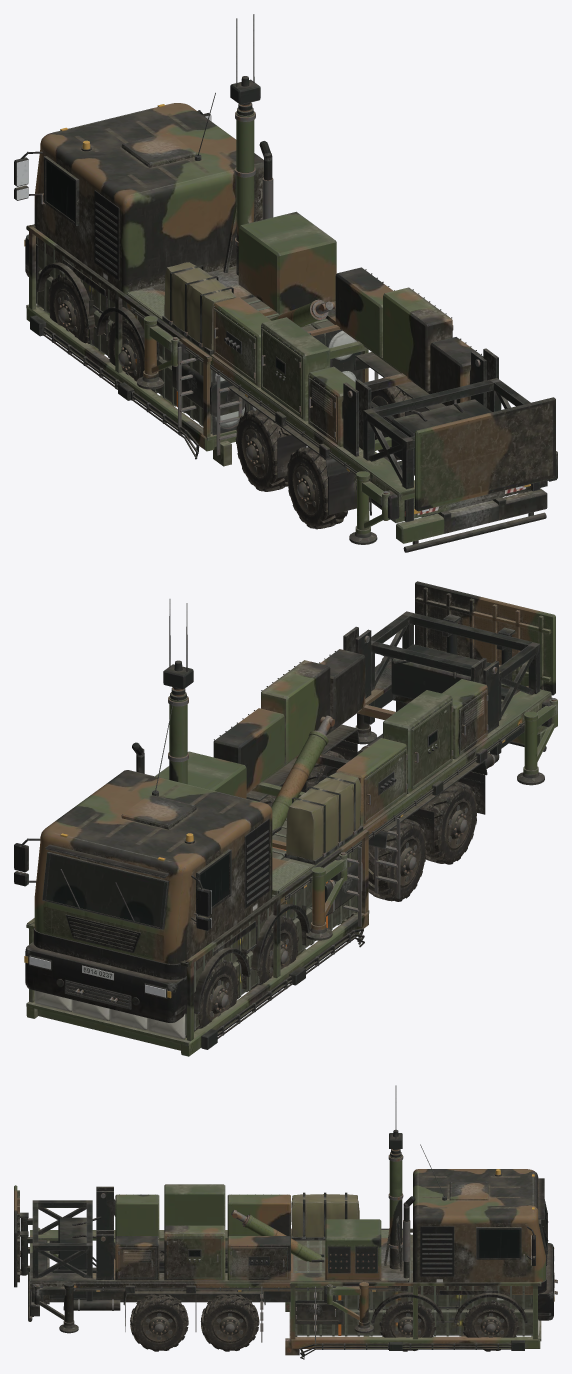
The model's file is sampt.glb.
3 views of the same model, one above another, from view 1: azimuth 30°, elevation 25°; view 2: azimuth 150°, elevation 25°; view 3: azimuth 270°, elevation 25° (orthographic). The views are drawn at different scales.
Parts seen in each view (by area): view 1: body|SMP_B, body|SMP_A, cradle|SMP_P, heelp|SMP_K, body|SMP_W, body|SMP_F, body|SMP_K, arm1|SMP_K, arm3|SMP_K, mast2|SMP_K; view 2: body|SMP_B, body|SMP_A, cradle|SMP_P, body|SMP_W, body|SMP_F, heelp|SMP_K, cyl0|SMP_K, body|SMP_K, arm1|SMP_K, arm3|SMP_K, mast2|SMP_K, lid0|SMP_P; view 3: body|SMP_B, body|SMP_A, cradle|SMP_P, body|SMP_W, body|SMP_F, body|SMP_K, arm0|SMP_K, arm2|SMP_K, cyl0|SMP_K, heelp|SMP_K.
Boxes of the visible parts, bbox=[...] form: body|SMP_B: bbox=[127, 211, 557, 552]; body|SMP_A: bbox=[14, 92, 263, 340]; cradle|SMP_P: bbox=[26, 224, 368, 466]; heelp|SMP_K: bbox=[415, 397, 555, 511]; body|SMP_W: bbox=[48, 274, 411, 529]; body|SMP_F: bbox=[36, 141, 506, 533]; body|SMP_K: bbox=[223, 111, 255, 275]; arm1|SMP_K: bbox=[143, 315, 179, 379]; arm3|SMP_K: bbox=[355, 471, 390, 534]; mast2|SMP_K: bbox=[230, 14, 260, 105]; body|SMP_B: bbox=[155, 611, 556, 926]; body|SMP_A: bbox=[14, 703, 272, 1022]; cradle|SMP_P: bbox=[26, 806, 369, 1056]; body|SMP_W: bbox=[194, 750, 477, 1035]; body|SMP_F: bbox=[132, 724, 499, 1014]; heelp|SMP_K: bbox=[415, 581, 555, 695]; cyl0|SMP_K: bbox=[271, 731, 328, 830]; body|SMP_K: bbox=[168, 696, 188, 784]; arm1|SMP_K: bbox=[311, 853, 347, 930]; arm3|SMP_K: bbox=[523, 699, 557, 774]; mast2|SMP_K: bbox=[163, 599, 193, 690]; lid0|SMP_P: bbox=[147, 1014, 185, 1039]; body|SMP_B: bbox=[20, 1184, 409, 1342]; body|SMP_A: bbox=[413, 1144, 557, 1324]; cradle|SMP_P: bbox=[285, 1228, 541, 1359]; body|SMP_W: bbox=[130, 1251, 519, 1351]; body|SMP_F: bbox=[30, 1196, 527, 1331]; body|SMP_K: bbox=[384, 1154, 403, 1271]; arm0|SMP_K: bbox=[327, 1282, 369, 1325]; arm2|SMP_K: bbox=[34, 1282, 74, 1325]; cyl0|SMP_K: bbox=[243, 1214, 321, 1261]; heelp|SMP_K: bbox=[14, 1185, 20, 1287].
Bounding box in the file's own units: 3.22 × 5.77 × 11.15.
Materials: 6 (6 with a texture image).
